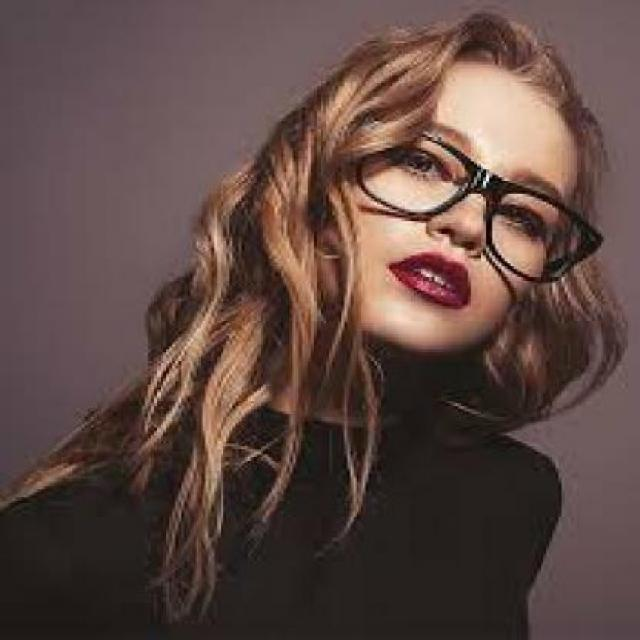glasses: (335, 113, 610, 293)
